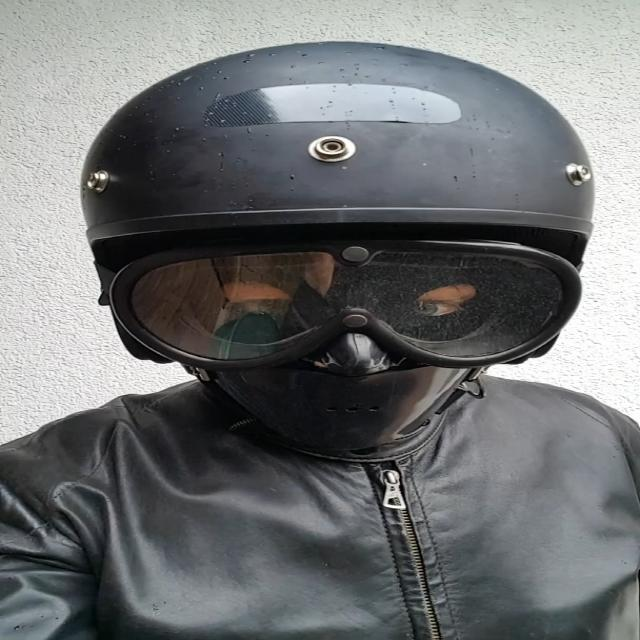Helmet_Wearer: (58, 31, 603, 451)
Jacket_Wearer: (0, 346, 640, 640)
Person: (0, 41, 640, 640)
